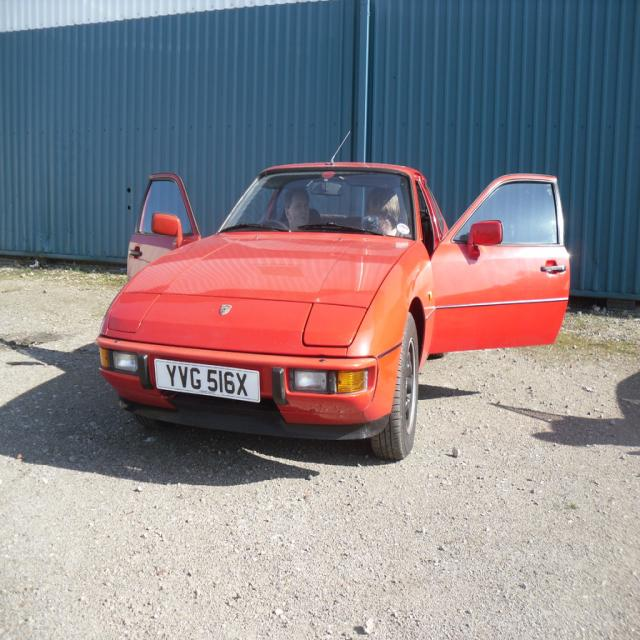car: (93, 129, 569, 461)
